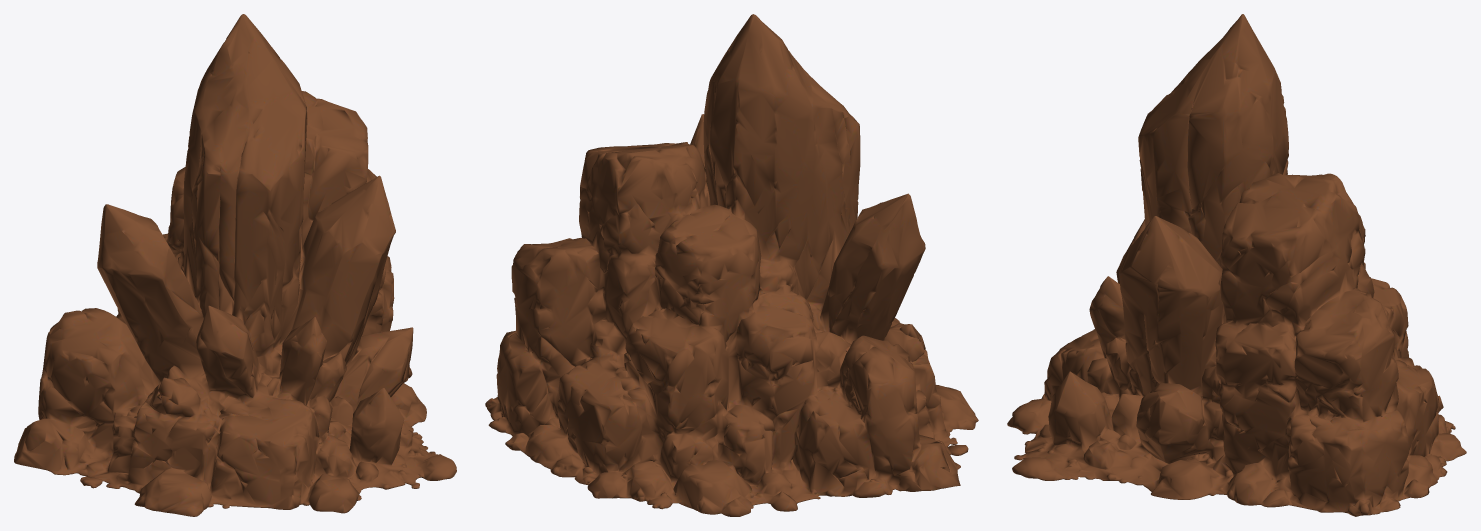
The model's file is grupo_de_cristales_de_oro.glb.
3 renders of one model, left to right at view 1: azimuth 30°, elevation 25°; view 2: azimuth 150°, elevation 25°; view 3: azimuth 270°, elevation 25°, orthographic.
Parts seen in each view (by area): view 1: grupo_de_cristales_de_oro; view 2: grupo_de_cristales_de_oro; view 3: grupo_de_cristales_de_oro.
Boxes of the visible parts, x1,y1,x2,y2 form: grupo_de_cristales_de_oro: (14,14,456,516); grupo_de_cristales_de_oro: (485,14,978,516); grupo_de_cristales_de_oro: (1007,14,1466,516).
Size of what is drawn, in the model's own units: 1.5 by 1.4 by 1.39.
1 material, 1 textured.
